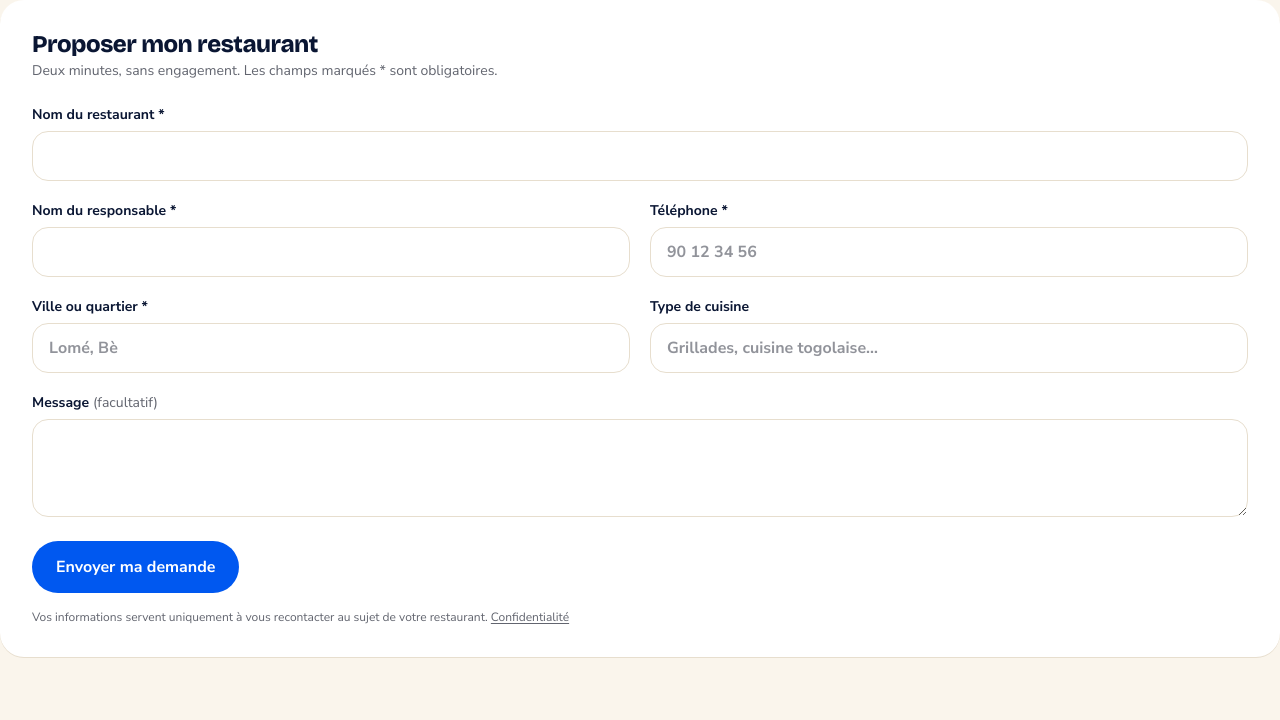
PartnerForm › n’envoie rien tant que le formulaire est invalide
Click the button "Envoyer ma demande": [136, 567] box [32,541,240,593]
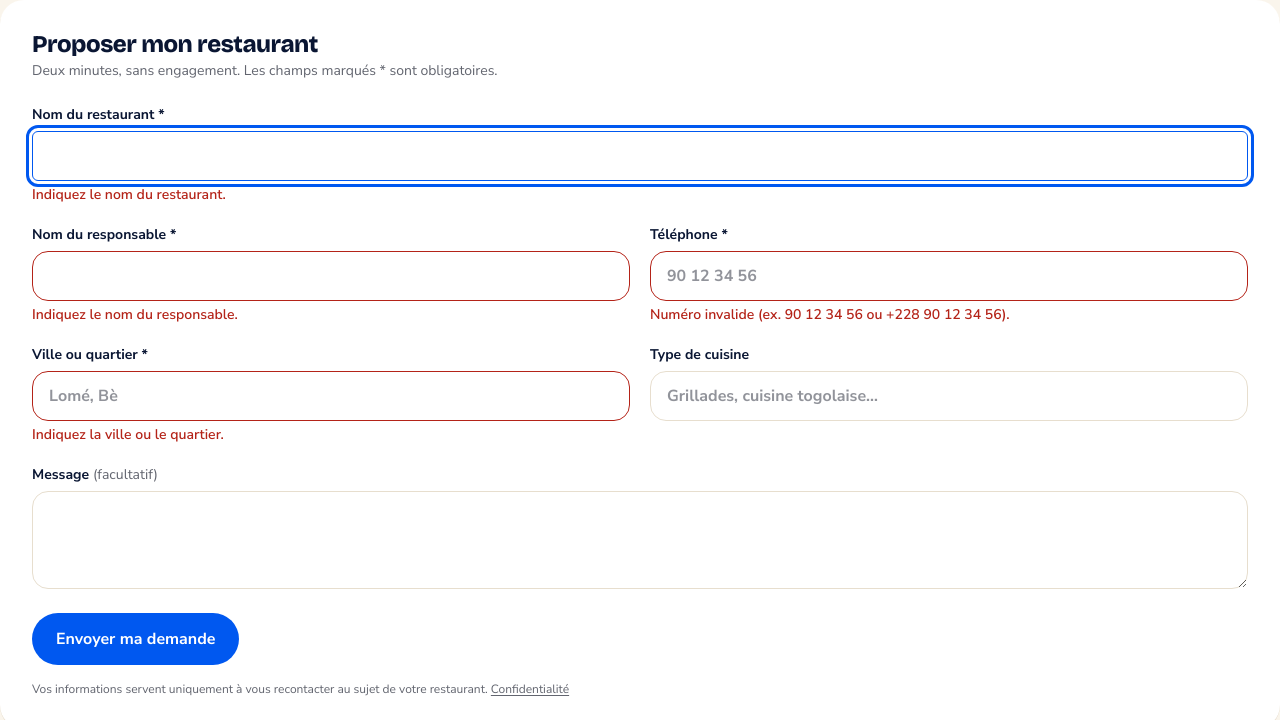
Result: the text "Indiquez le nom du restaurant." is shown at [32,185,226,204]
